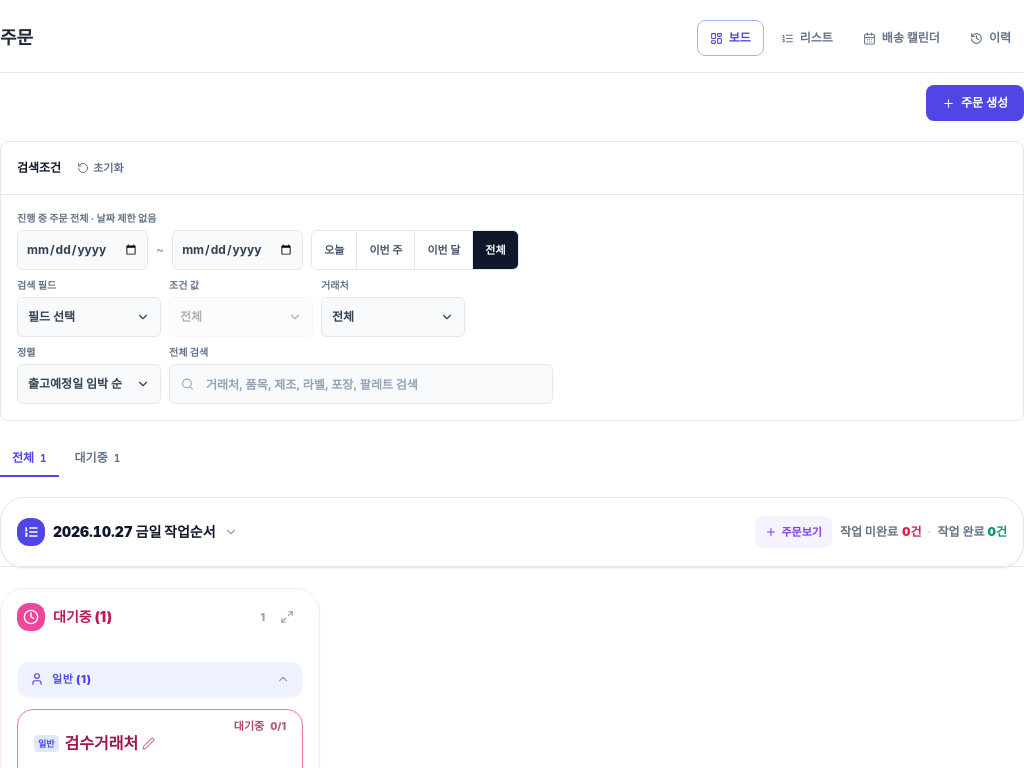
Test case: 실제 주문 수정의 거절은 모달 복구 안내에 남고 초안은 유지된다
What coordinates should you click on to do the following:
click the button with aria-label "검수거래처 주문 수정"
I would click on:
 (110, 743)
Its box is [61,733,159,753].
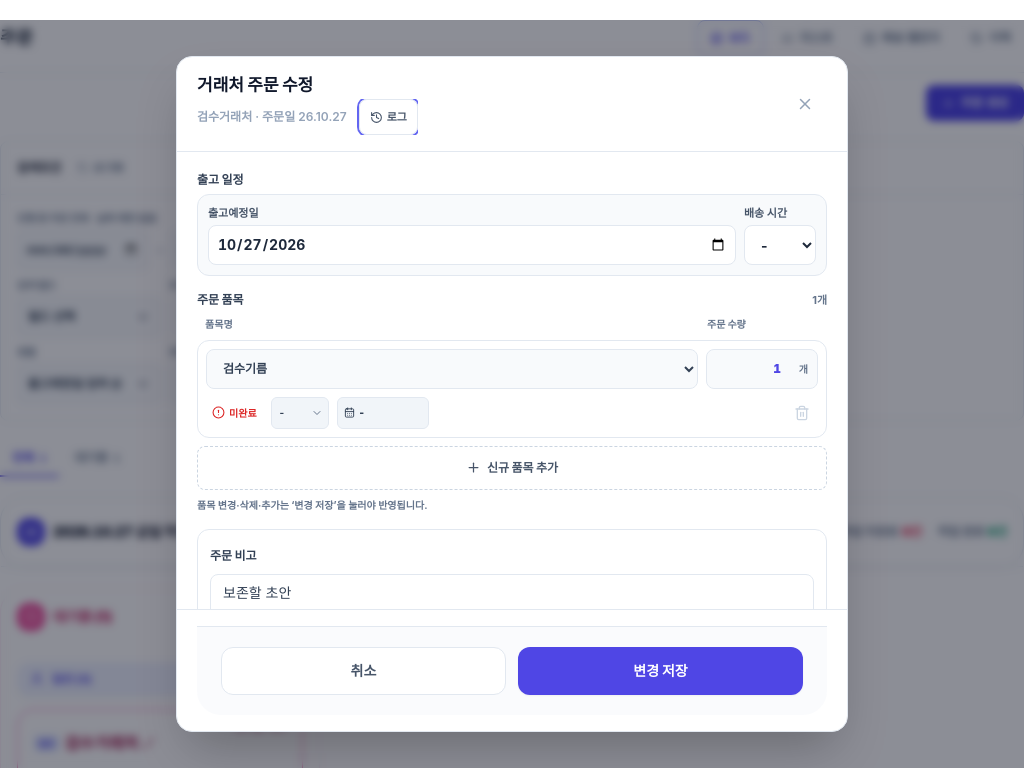
What coordinates should you click on to do the following:
click the button "변경 저장"
I would click on:
 (660, 671)
Its box is [518,647,803,695].
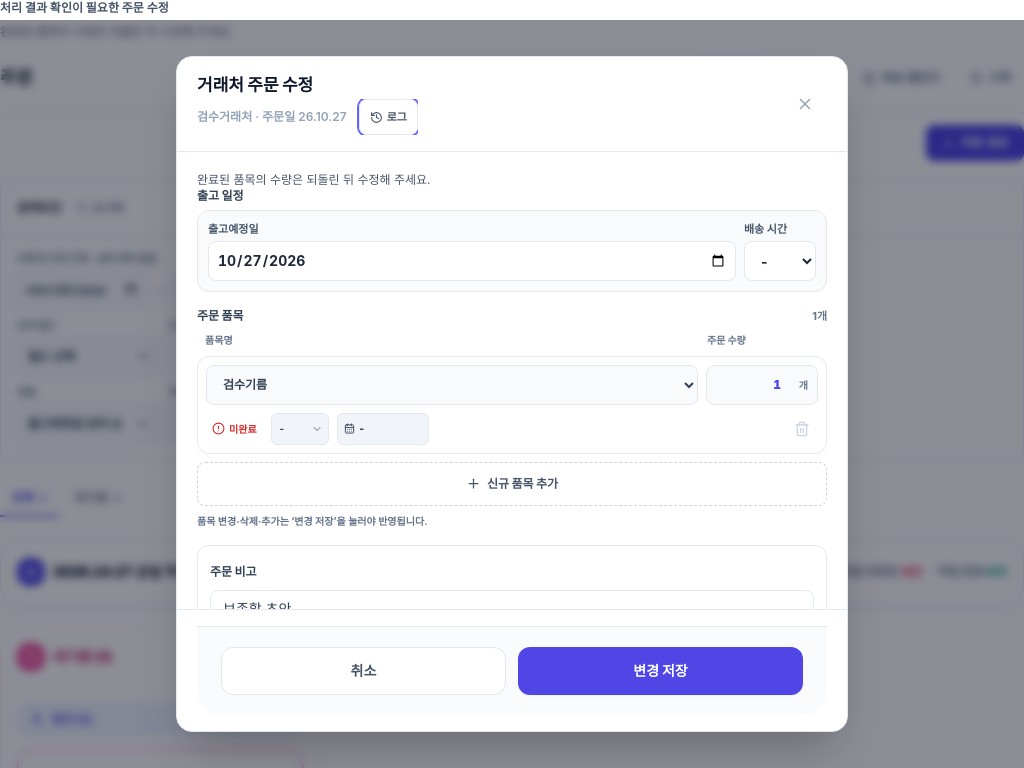
Check: the dialog "거래처 주문 수정" is shown, box [176,56,848,732]
Check: the message shows "완료된 품목의 수량", box [197,172,430,187]
